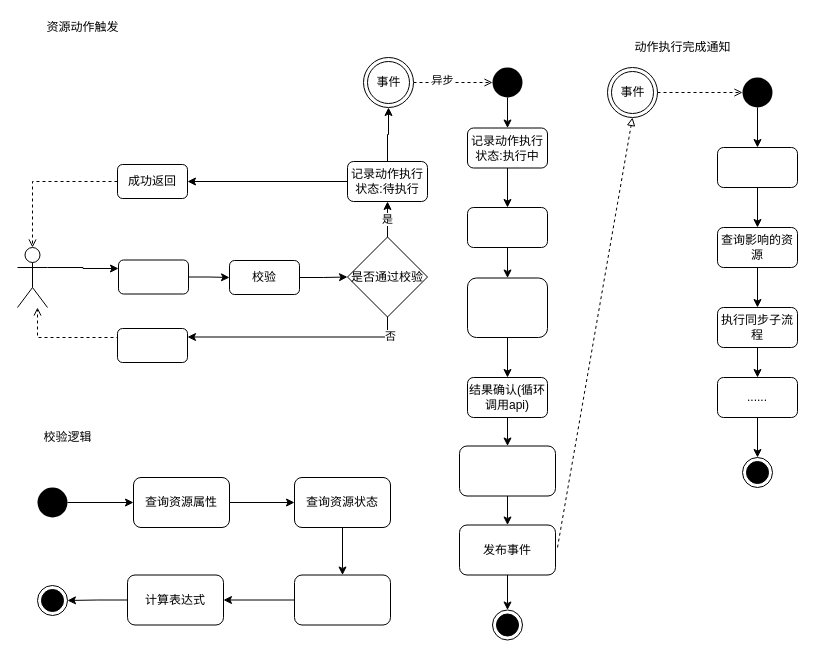
This 815x657 diagram has some shape labels left out. Here are the shapes that lost their labels. From the top down, the centre of each, then its label:
point 757,167: 记录动作状态:待同步
point 507,227: 执行处理逻辑
point 153,276: API(开机)
point 507,307: 记录动作执行状态：等待结果响应
point 152,345: 失败返回
point 507,470: 记录动作执行状态：结果已确认
point 342,599: 查询表达式
